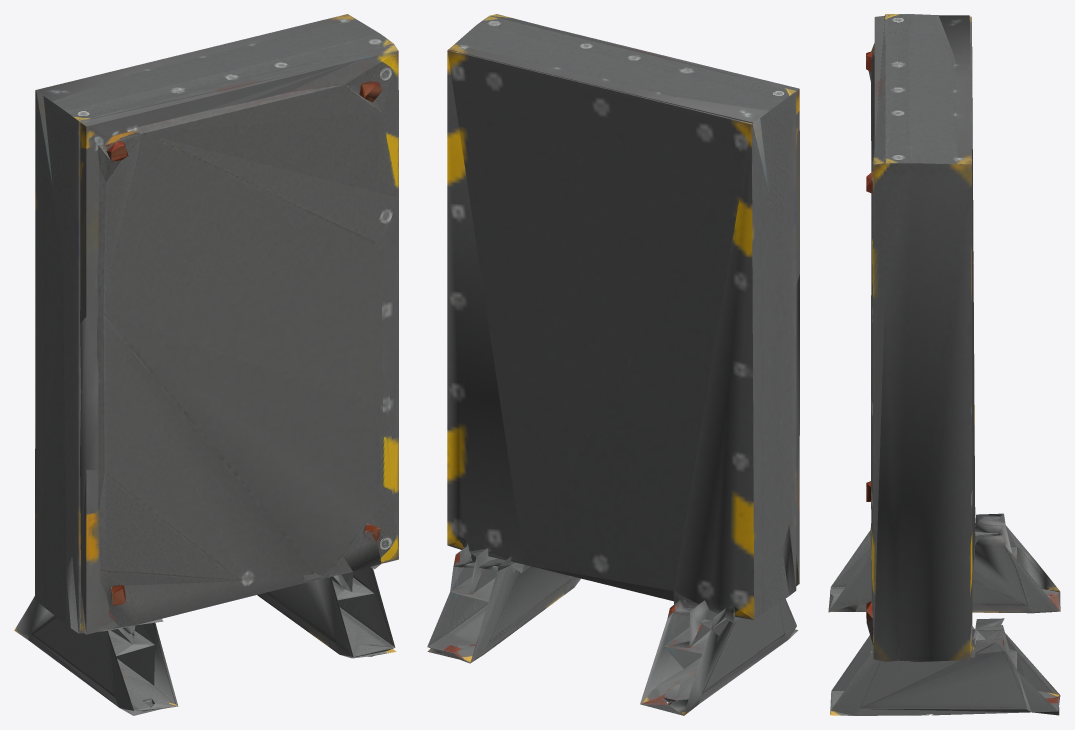
Rendered from Checkup_SteelPlate.fbx.
The picture shows the model from 3 angles, left to right: view 1: azimuth 30°, elevation 25°; view 2: azimuth 150°, elevation 25°; view 3: azimuth 270°, elevation 25°; orthographic projection. The views are drawn at different scales.
Visible parts, largest first — view 1: Mesh_0; view 2: Mesh_0; view 3: Mesh_0.
Part boxes in pixels (<box>): Mesh_0: <box>14,14,398,715</box>; Mesh_0: <box>427,14,799,715</box>; Mesh_0: <box>828,14,1060,715</box>.
Size of the model in its own units: 108 by 190 by 70.76.
1 material, 1 textured.
